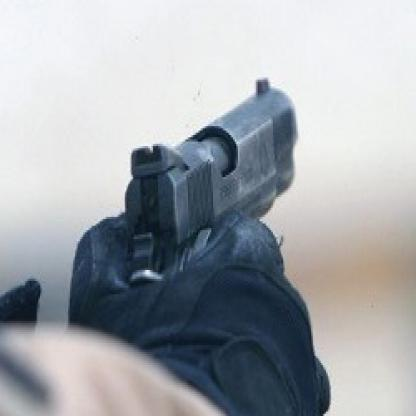gun: (90, 60, 318, 352)
